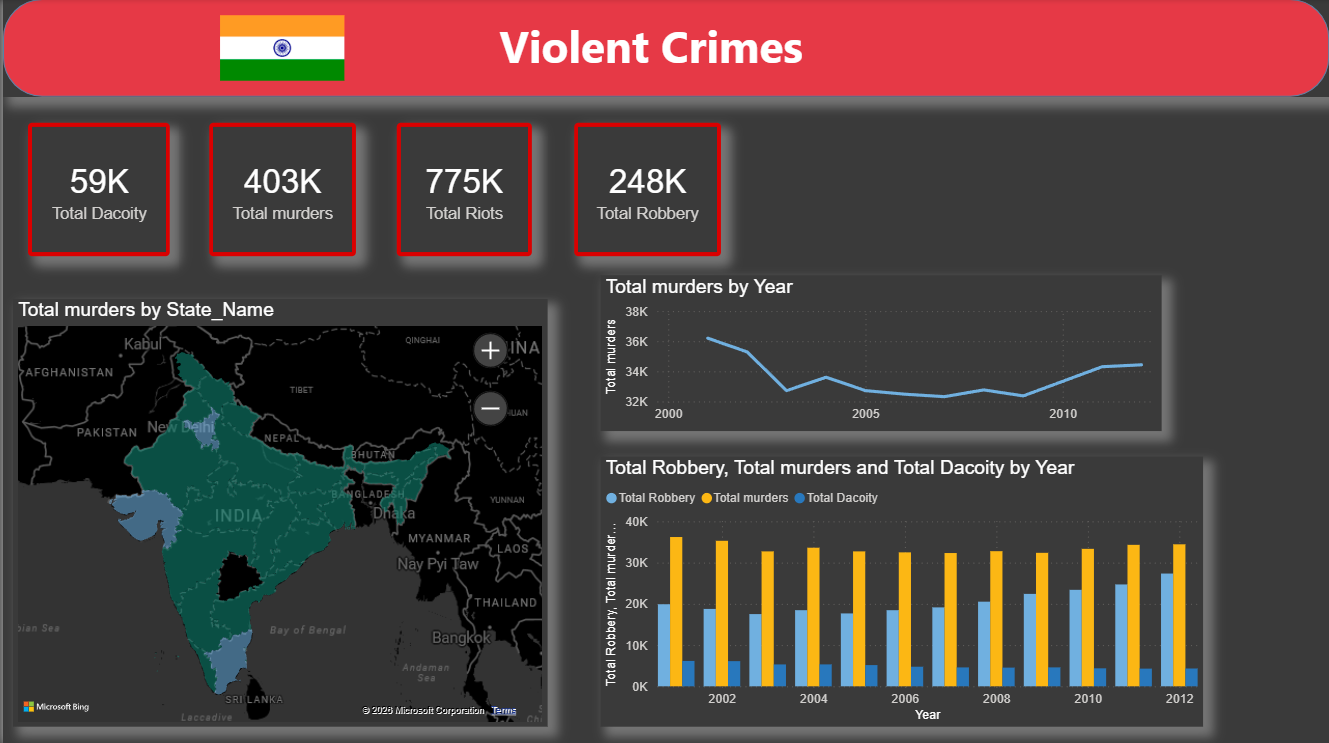

Layout of this report page (visuals, bound fields, positions):
{"tool":"powerbi","page":{"name":"Violent Crimes","canvas":[1280,720],"ordinal":3},"visuals":[{"type":"card","fields":{"Values":["Violent_Crimes.Total Dacoity"]},"box":[24.3,120,137.1,128.6],"z":0},{"type":"card","fields":{"Values":["Violent_Crimes.Total murders"]},"box":[198.6,120,141.4,128.6],"z":1000},{"type":"card","fields":{"Values":["Violent_Crimes.Total Riots"]},"box":[380,120,130,128.6],"z":2000},{"type":"card","fields":{"Values":["Violent_Crimes.Total Robbery"]},"box":[551.4,120,141.4,128.6],"z":3000},{"type":"lineChart","fields":{"Category":["Year_Table.Year"],"Y":["Violent_Crimes.Total murders"]},"box":[577.1,267.1,541.4,150],"z":4000},{"type":"clusteredColumnChart","fields":{"Category":["Year_Table.Year"],"Y":["Violent_Crimes.Total Robbery","Violent_Crimes.Total murders","Violent_Crimes.Total Dacoity"]},"box":[576.7,441.6,581.5,260.6],"z":5000},{"type":"filledMap","fields":{"Category":["States.State_Name"]},"box":[10,290,515.7,412.9],"z":6000},{"type":"shape","box":[0,0,1280,94.3],"z":7000},{"type":"textbox","box":[474.3,11.4,330,70],"z":8000},{"type":"image","box":[203.4,15.9,131.3,63.5],"z":9000}]}

Visuals, with their boxes in screenshot pixels (x1, y1, x2, y2), scaled from the page's 1280x720 canvas onto the 1329x743 screenshot:
card - Violent_Crimes.Total Dacoity: 25/124/168/257
card - Violent_Crimes.Total murders: 206/124/353/257
card - Violent_Crimes.Total Riots: 395/124/530/257
card - Violent_Crimes.Total Robbery: 573/124/719/257
lineChart - Year_Table.Year x Violent_Crimes.Total murders: 599/276/1161/430
clusteredColumnChart - Year_Table.Year x Violent_Crimes.Total Robbery: 599/456/1203/725
filledMap - States.State_Name: 10/299/546/725
shape: 0/0/1328/97
textbox: 492/12/835/84
image: 211/16/348/82
